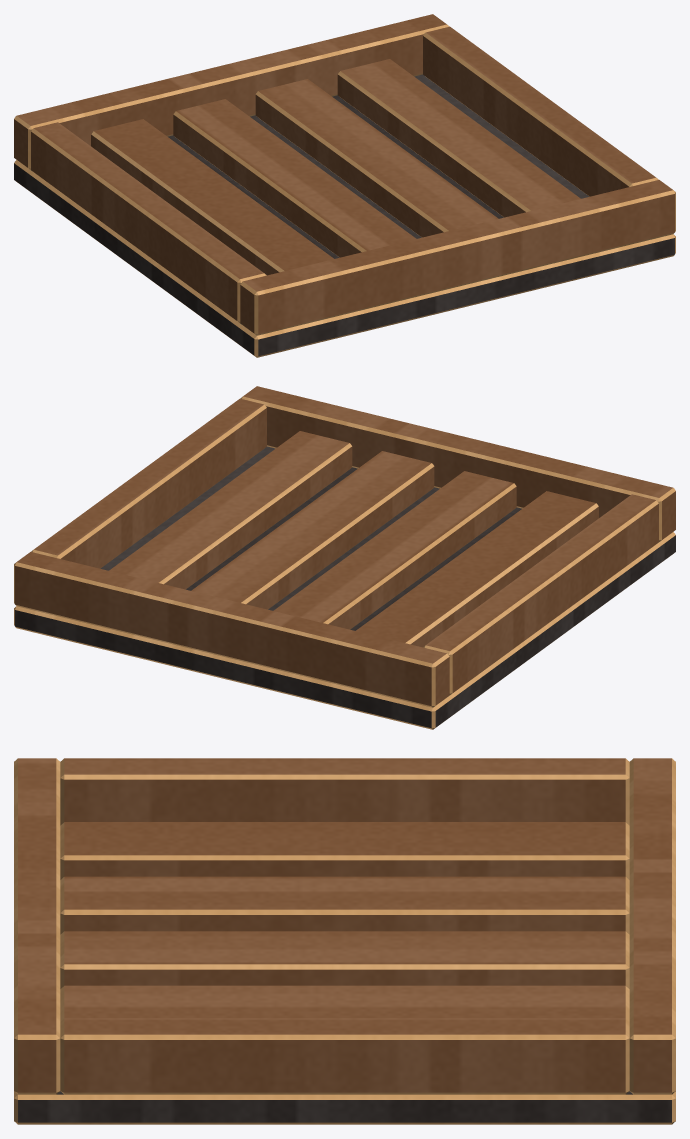
Rendered from sm_terrain_tile_tilled.glb.
3 views of the same model, one above another, from view 1: azimuth 30°, elevation 25°; view 2: azimuth 150°, elevation 25°; view 3: azimuth 270°, elevation 25° (orthographic). The views are drawn at different scales.
Visible parts, largest first — view 1: sm_terrain_tile_tilled; view 2: sm_terrain_tile_tilled; view 3: sm_terrain_tile_tilled.
Boxes of the visible parts, bbox=[...] form: sm_terrain_tile_tilled: bbox=[14, 14, 675, 357]; sm_terrain_tile_tilled: bbox=[14, 386, 675, 729]; sm_terrain_tile_tilled: bbox=[14, 758, 675, 1124].
Size of the model in its own units: 1 by 0.15 by 1.
1 material, 1 textured.
